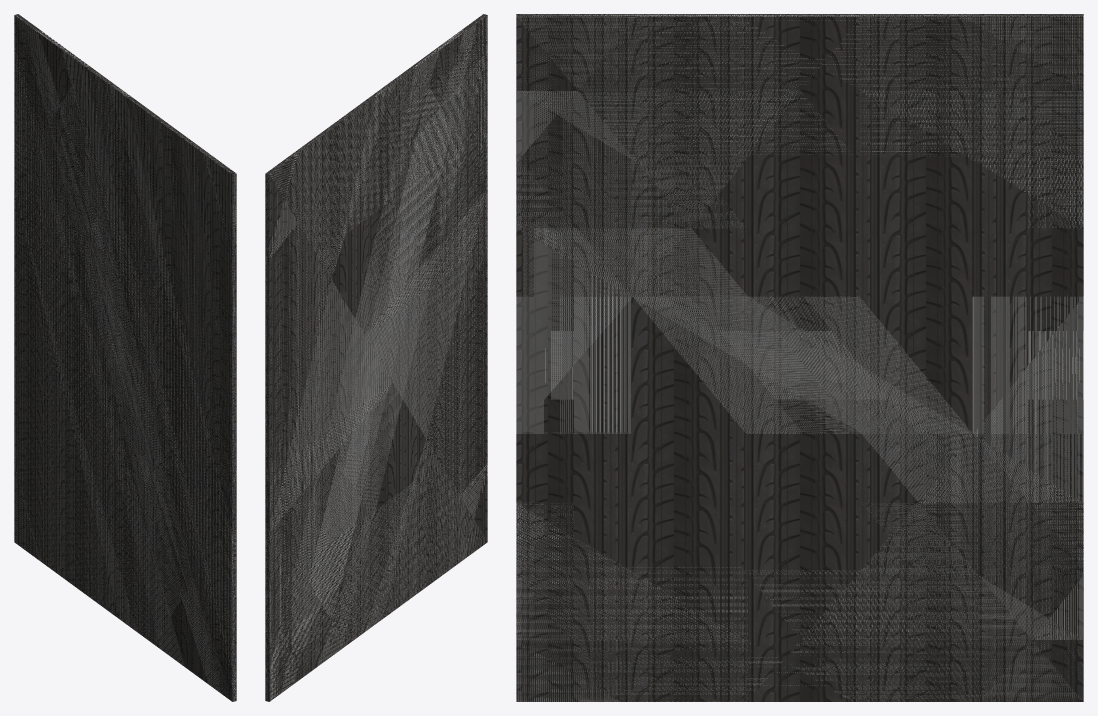
The model's file is back_cover.min.dae.
3 views of the same model, side by side, from view 1: azimuth 30°, elevation 25°; view 2: azimuth 150°, elevation 25°; view 3: azimuth 270°, elevation 25° (orthographic). The views are drawn at different scales.
Parts seen in each view (by area): view 1: skp7065; view 2: skp7065; view 3: skp7065.
Boxes of the visible parts, x1,y1,x2,y2 form: skp7065: (14, 14, 236, 701); skp7065: (265, 14, 487, 701); skp7065: (516, 14, 1083, 701).
Bounding box in the file's own units: 0.1969 × 17.72 × 23.62.
